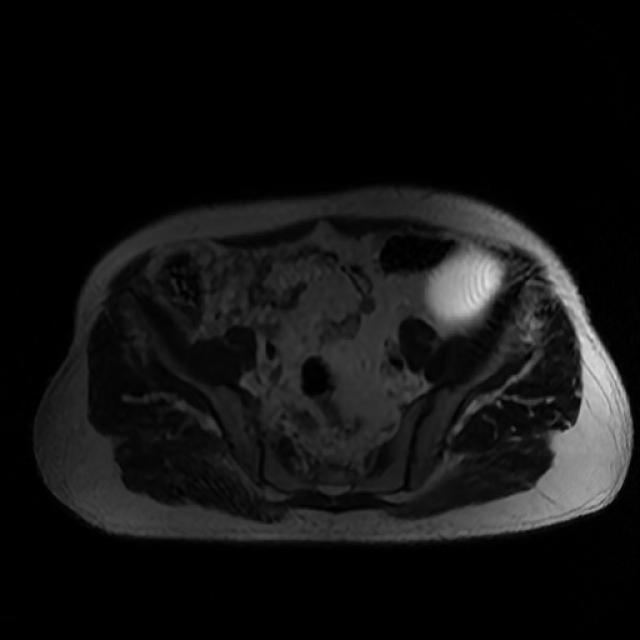sol: (422, 246, 508, 324)
